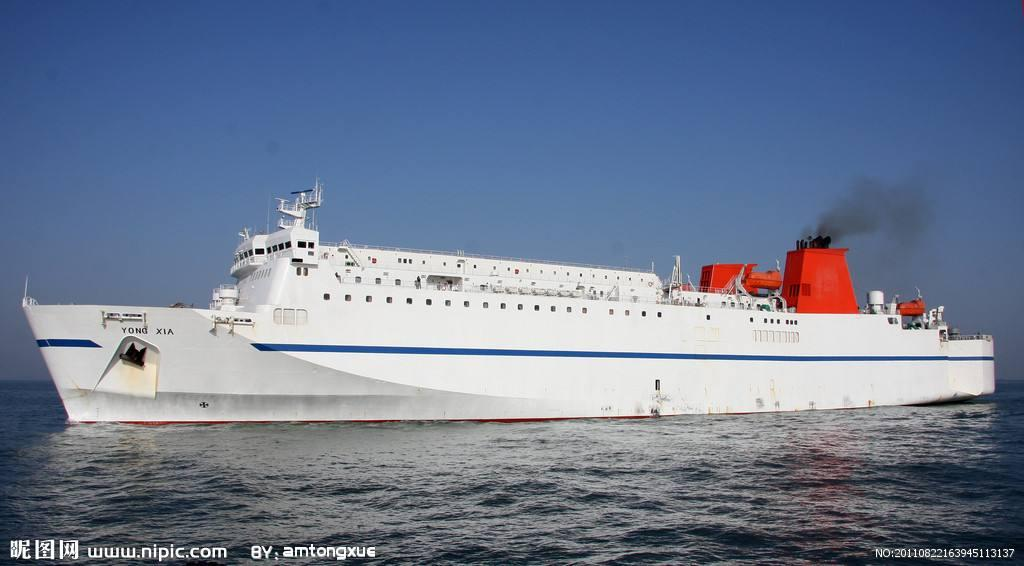warship: (28, 193, 1006, 421)
